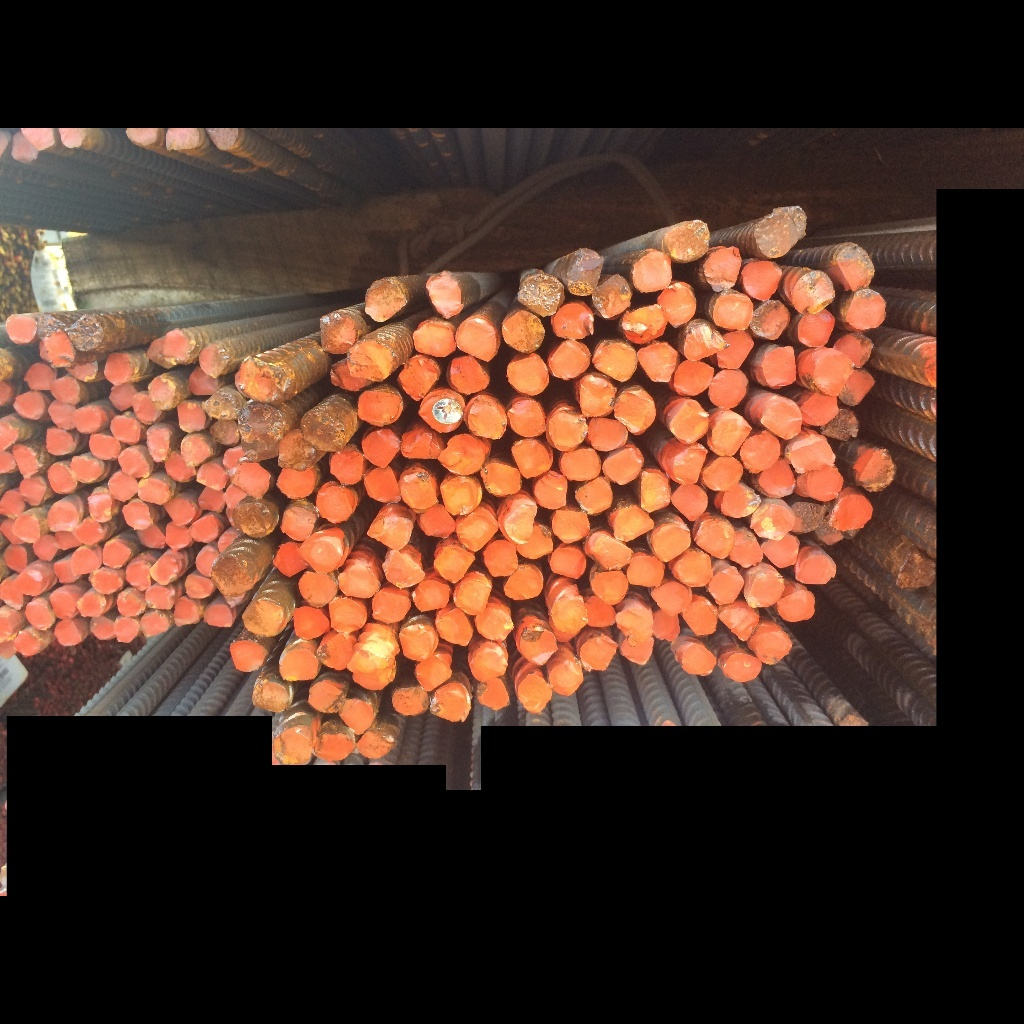dipstick: (582, 528, 634, 572), (348, 650, 401, 691), (238, 408, 287, 452), (238, 595, 290, 636), (664, 218, 711, 263), (853, 447, 897, 494), (571, 628, 620, 670), (368, 509, 420, 548), (636, 339, 681, 383), (347, 339, 395, 380), (301, 410, 342, 458), (212, 554, 256, 598), (443, 431, 486, 476), (300, 531, 345, 574), (693, 513, 738, 556), (703, 563, 748, 606), (801, 351, 848, 392), (646, 520, 694, 560), (454, 317, 499, 359), (594, 339, 639, 381), (432, 541, 477, 583), (467, 641, 512, 683), (516, 276, 563, 316), (316, 628, 359, 671), (739, 565, 784, 606), (431, 608, 482, 644), (379, 549, 427, 587), (420, 391, 464, 432), (513, 672, 557, 713), (501, 496, 540, 542), (232, 498, 279, 536), (613, 390, 656, 431), (424, 273, 464, 317), (635, 469, 675, 513), (316, 483, 360, 523), (411, 318, 456, 357), (760, 212, 796, 260), (453, 514, 501, 550), (894, 548, 935, 590), (574, 377, 617, 417), (441, 476, 484, 516), (672, 547, 715, 587), (464, 398, 510, 435), (723, 528, 764, 569), (238, 365, 286, 400), (367, 280, 407, 322), (835, 249, 875, 291), (709, 413, 749, 455), (774, 584, 816, 624), (412, 647, 452, 689), (761, 401, 804, 440), (674, 639, 720, 675), (545, 409, 586, 449), (398, 471, 439, 511), (511, 437, 552, 477), (669, 483, 710, 523), (566, 251, 605, 293), (501, 312, 543, 351), (507, 353, 549, 392), (547, 338, 590, 376), (586, 566, 629, 604), (749, 502, 794, 538), (275, 646, 320, 682), (827, 494, 873, 529), (648, 581, 694, 616), (359, 429, 399, 469), (516, 626, 557, 665), (312, 719, 354, 757), (326, 597, 369, 634), (367, 589, 412, 624), (785, 436, 834, 468), (357, 389, 403, 423), (741, 259, 781, 298), (657, 286, 697, 325), (483, 459, 523, 498), (712, 291, 753, 329), (761, 349, 797, 392), (303, 677, 346, 713), (447, 355, 486, 394), (670, 446, 709, 485), (532, 471, 572, 509), (545, 657, 585, 695), (431, 683, 469, 723), (844, 292, 885, 329), (668, 401, 709, 438), (742, 435, 783, 472), (291, 601, 332, 638), (471, 604, 513, 640), (229, 460, 272, 495), (549, 509, 593, 543), (607, 444, 645, 483), (711, 368, 748, 408), (503, 566, 543, 603), (620, 308, 661, 344), (720, 602, 761, 638), (548, 603, 589, 639), (295, 572, 339, 605), (400, 358, 437, 397), (563, 446, 603, 482), (683, 324, 724, 359), (453, 580, 494, 615), (412, 579, 455, 612), (715, 331, 752, 369), (400, 624, 438, 661), (702, 252, 741, 288), (762, 529, 801, 565), (797, 552, 836, 588), (631, 254, 671, 289), (720, 648, 761, 682), (624, 554, 665, 588), (703, 458, 745, 491), (357, 625, 400, 657), (509, 398, 546, 435), (363, 467, 400, 504), (483, 539, 520, 576), (593, 282, 632, 317), (614, 505, 653, 540), (575, 478, 614, 513), (683, 597, 717, 637), (279, 465, 320, 498), (755, 299, 790, 337), (802, 391, 840, 426), (339, 562, 377, 597), (252, 676, 290, 711), (581, 594, 620, 628), (791, 275, 831, 308), (753, 632, 792, 665), (229, 639, 268, 672), (87, 564, 128, 595), (761, 462, 797, 497), (789, 499, 825, 534), (279, 435, 316, 469), (549, 546, 586, 580), (338, 694, 375, 728), (322, 313, 360, 346), (674, 362, 712, 395), (282, 506, 320, 539), (480, 679, 518, 712), (401, 428, 442, 458), (329, 447, 364, 482), (617, 635, 656, 666), (419, 508, 459, 538), (799, 312, 834, 346), (809, 465, 843, 500), (275, 728, 309, 763), (200, 344, 233, 380), (553, 305, 591, 336), (392, 687, 430, 718), (848, 369, 877, 409), (275, 542, 309, 576), (22, 598, 56, 632), (649, 609, 683, 643), (44, 500, 80, 532), (13, 565, 49, 597), (617, 604, 653, 636), (719, 488, 758, 517), (71, 317, 104, 351), (519, 526, 553, 559), (775, 204, 807, 239), (353, 728, 393, 756), (208, 418, 245, 448), (68, 543, 101, 576), (823, 406, 857, 438), (151, 553, 183, 587), (589, 417, 624, 448), (149, 376, 179, 412), (202, 599, 236, 630), (196, 461, 231, 491), (73, 515, 108, 545), (143, 580, 178, 610), (164, 451, 196, 483), (70, 453, 102, 485), (42, 335, 75, 366), (121, 498, 154, 529), (168, 595, 201, 626), (88, 430, 122, 460), (49, 586, 79, 620), (125, 559, 155, 593), (332, 361, 364, 392), (46, 461, 77, 493), (101, 536, 132, 568), (75, 589, 107, 620), (53, 618, 84, 650), (140, 609, 171, 640), (119, 446, 151, 476), (46, 426, 79, 455), (1, 576, 30, 609), (19, 475, 50, 505), (837, 335, 870, 363), (23, 365, 58, 391), (180, 435, 211, 464), (139, 476, 168, 507), (110, 413, 142, 441), (88, 491, 116, 522), (193, 545, 221, 576), (189, 372, 221, 399), (145, 424, 169, 460), (106, 472, 139, 498), (16, 628, 42, 661), (165, 496, 195, 524), (53, 557, 83, 585), (116, 589, 146, 617), (161, 332, 192, 359), (178, 403, 209, 430), (136, 523, 167, 550), (816, 520, 849, 545), (8, 316, 36, 345), (112, 616, 142, 643), (12, 133, 38, 164), (190, 515, 221, 541), (207, 129, 247, 149), (3, 544, 30, 573), (105, 354, 131, 384), (14, 511, 39, 542), (108, 384, 137, 410), (15, 446, 41, 475), (32, 534, 61, 560), (76, 402, 101, 432), (198, 488, 229, 512), (164, 129, 201, 149), (58, 378, 84, 406), (165, 524, 194, 549), (23, 129, 54, 152), (1, 488, 26, 515), (14, 392, 46, 413), (147, 340, 174, 364), (52, 401, 76, 428), (127, 129, 161, 148), (1, 420, 19, 451), (183, 573, 214, 591), (58, 129, 85, 148), (224, 449, 249, 469), (1, 613, 20, 638), (55, 531, 78, 548), (1, 514, 16, 539), (220, 530, 238, 549), (1, 450, 16, 472), (1, 637, 20, 654), (1, 382, 12, 406)
